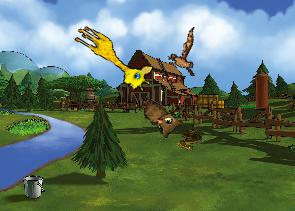eagle: (160, 27, 208, 82)
giraffe: (66, 22, 158, 95)
owl: (131, 96, 185, 142)
